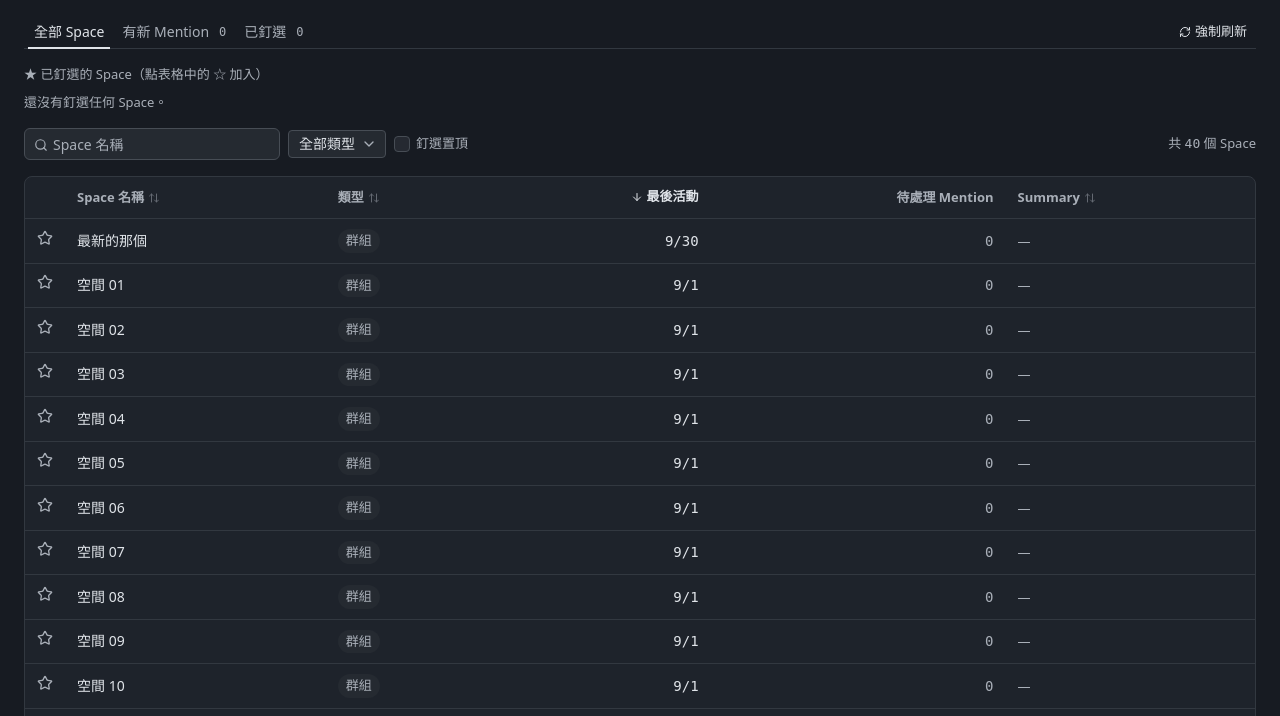
Scenario: SpacesTable：分頁、排序、篩選作用於全部 Space › 🔴 正對照：搜尋只在第二頁的名字，找得到，而且總數跟著變
The width and height of the screenshot is (1280, 716).
In the field named "搜尋 Space 名稱": (152, 144) [24,128,280,160], type "空間 38"
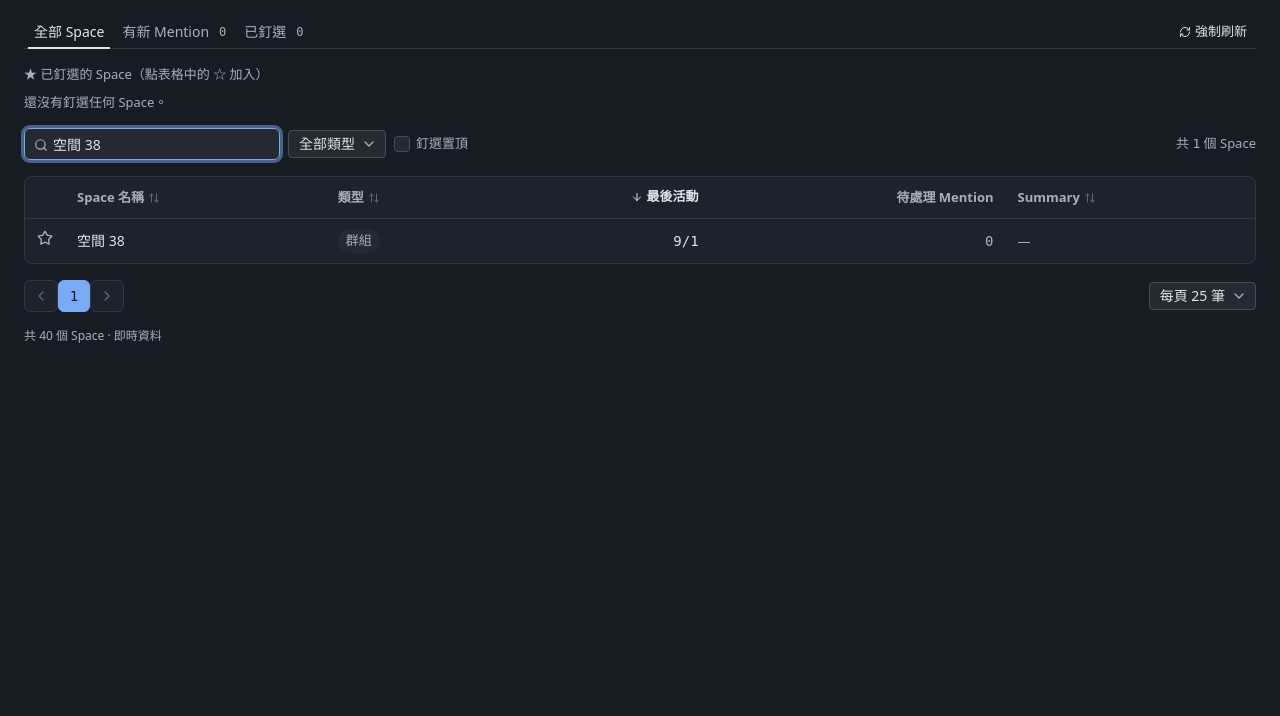
Expected: the text "共 1 個 Space" is shown, [1176,134,1256,154]
